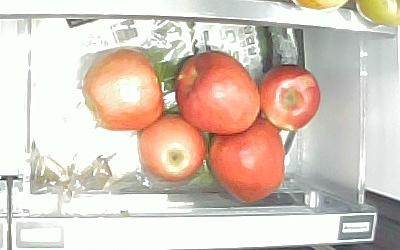apple: (176, 52, 262, 136), (81, 48, 164, 132), (209, 118, 287, 204), (138, 114, 207, 182), (259, 63, 321, 132)
